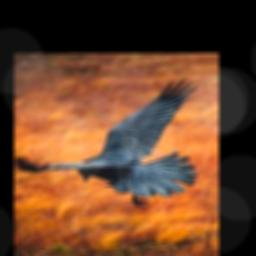Crow: (14, 77, 198, 206)
